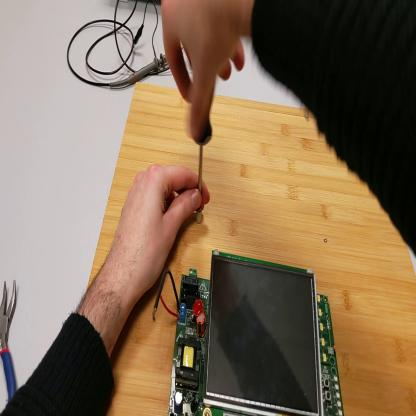hand: (108, 164, 211, 299), (162, 2, 249, 140)
low voltage board: (151, 252, 345, 416)
oscilloscope probe tip: (109, 51, 168, 89)
pliers: (2, 279, 25, 403)
screwdriver-: (197, 84, 215, 189)
working area: (90, 87, 415, 414)
